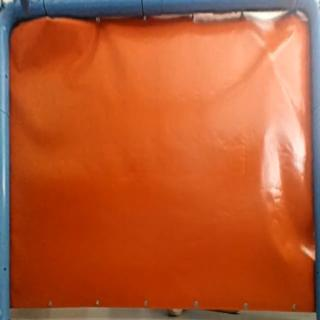Hit-hRxx: (264, 50, 278, 64)
